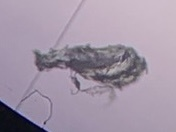microplastic: (30, 41, 148, 106)
